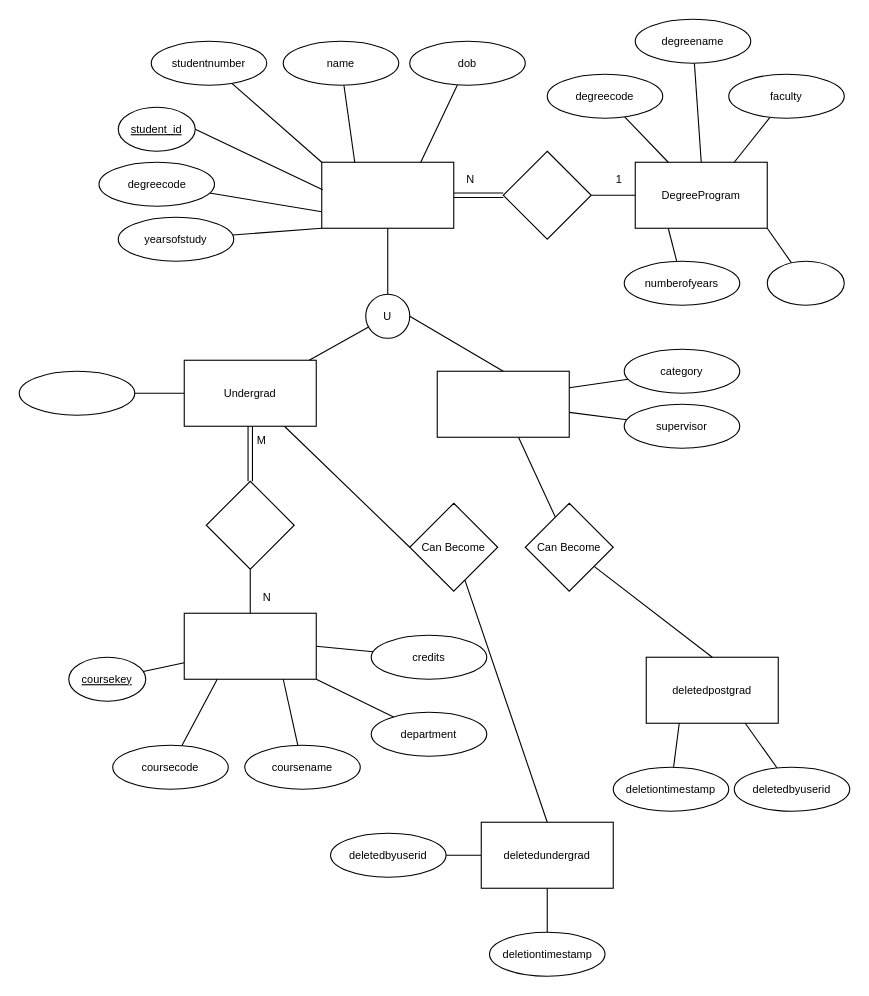
Image size: 869x996. Some labels were removed from this diagram. The shapes that lost their labels are listed below. From the top down, each one's centre as x and y in pixels, then its label:
the point at 387,194: Student
the point at 546,194: Part of
the point at 805,282: degreekey
the point at 76,392: courseregistration
the point at 502,403: PostGrad
the point at 249,524: Takes
the point at 249,645: Course
